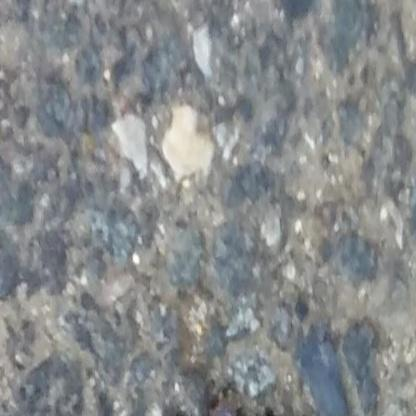Cracks: (146, 406, 298, 416)
